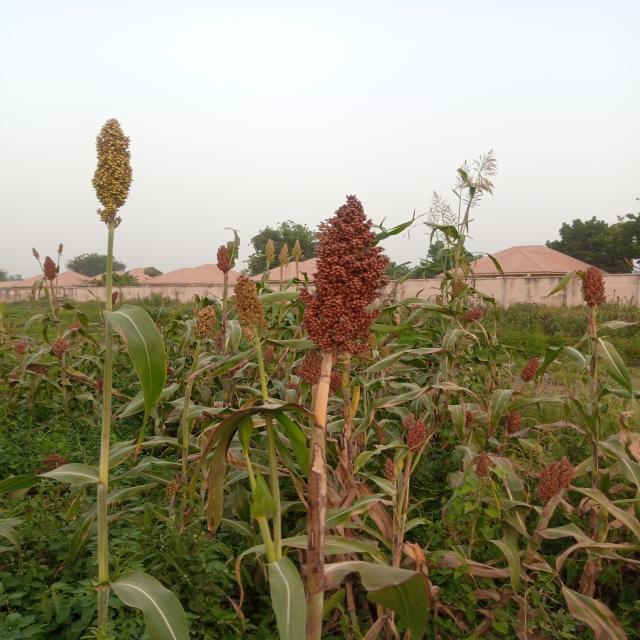RipeSorghum: (294, 195, 391, 362)
UnripeSorghum: (61, 108, 152, 221)
